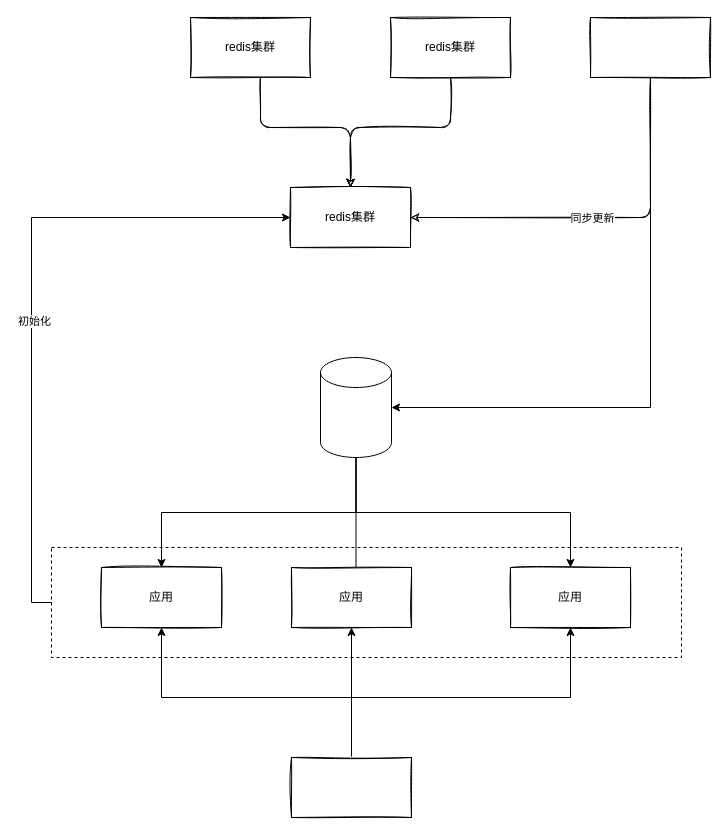
Some shapes in this 728 by 835 pixel diagram are drawn without their labels. Each missing label, with the centre of its shape:
MQ: (x=356, y=407)
后台修改: (x=650, y=47)
客户端: (x=351, y=787)
